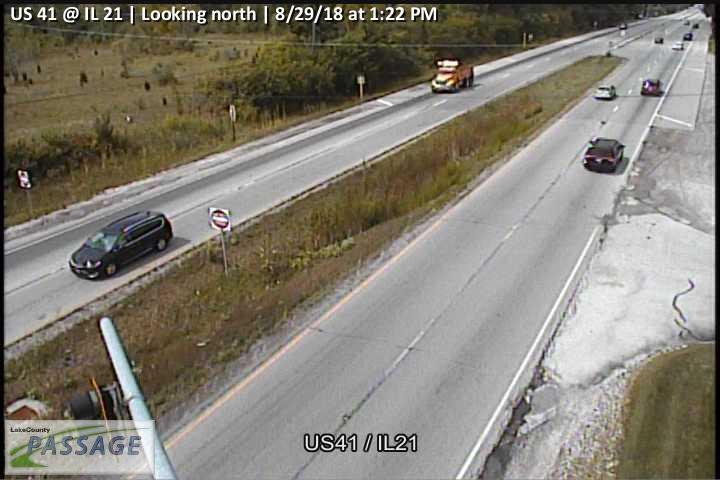SUV: (67, 208, 175, 281), (581, 137, 627, 172), (618, 20, 627, 29)
Sedan: (640, 77, 664, 97), (592, 83, 617, 100), (671, 40, 685, 50), (654, 35, 665, 44)
Truck: (429, 56, 476, 92)
